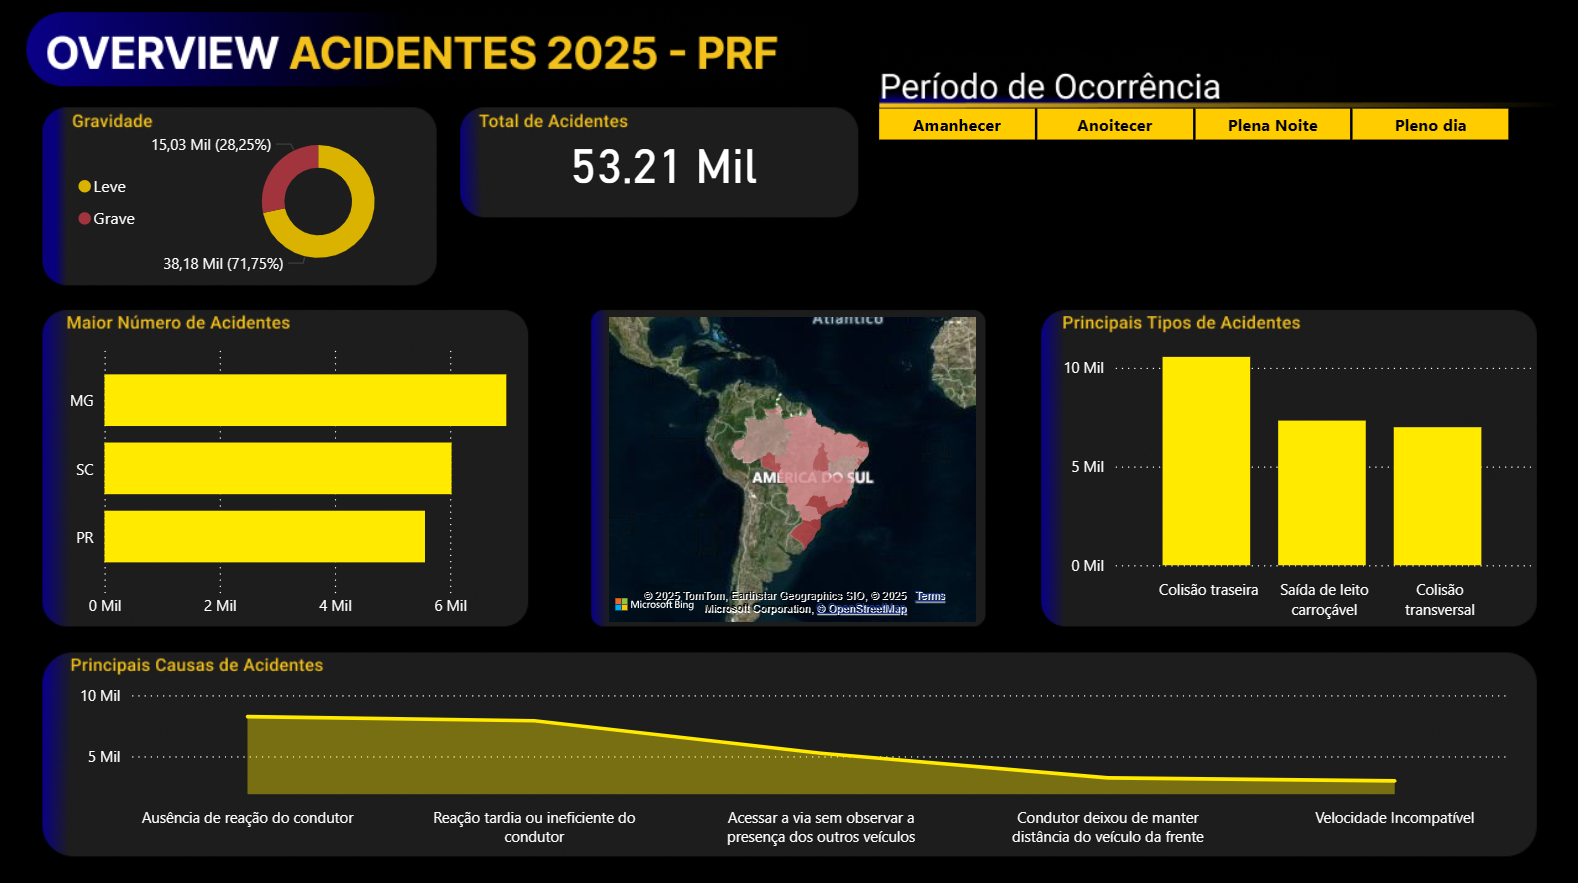

The dashboard page shown, as its layout file describes it:
{"tool":"powerbi","page":{"name":"Página 1","canvas":[1280,720],"ordinal":0},"visuals":[{"type":"filledMap","fields":{"Category":["prf_db acidentes.regiao_ajustada"]},"box":[492.5,217.5,320,272.5],"z":0},{"type":"clusteredBarChart","fields":{"Category":["prf_db acidentes.Estado"],"Y":["CountNonNull(prf_db acidentes.id)"]},"box":[58.8,240,370,250],"z":1000},{"type":"clusteredColumnChart","fields":{"Category":["prf_db acidentes.tipo_acidente"],"Y":["CountNonNull(prf_db acidentes.id)"]},"box":[872.5,217.5,366.2,272.5],"z":2000},{"type":"areaChart","fields":{"Category":["prf_db acidentes.causa_acidente"],"Y":["CountNonNull(prf_db acidentes.id)"]},"box":[58.8,538.8,1180,162.5],"z":3000},{"type":"pivotTable","fields":{"Rows":["prf_db acidentes.data_inversa.Variation.Hierarquia de datas.Dia"],"Columns":["prf_db acidentes.horario"],"Values":["CountNonNull(prf_db acidentes.id)"]},"box":[1259,280.2,12.5,116.8],"z":4000},{"type":"slicer","fields":{"Values":["prf_db acidentes.fase_dia"]},"box":[707.5,45,551.2,37.5],"z":5000},{"type":"clusteredBarChart","fields":{"Category":["prf_db acidentes.gravidade"],"Y":["CountNonNull(prf_db acidentes.veiculos)"]},"box":[86.2,73.8,553.8,126.2],"z":6000}]}

Visuals, with their boxes in screenshot pixels (x1, y1, x2, y2), scaled from the page's 1280x720 canvas onto the 1578x883 screenshot:
filledMap - prf_db acidentes.regiao_ajustada: Rect(607, 267, 1002, 601)
clusteredBarChart - prf_db acidentes.Estado x CountNonNull(prf_db acidentes.id): Rect(72, 294, 529, 601)
clusteredColumnChart - prf_db acidentes.tipo_acidente x CountNonNull(prf_db acidentes.id): Rect(1076, 267, 1527, 601)
areaChart - prf_db acidentes.causa_acidente x CountNonNull(prf_db acidentes.id): Rect(72, 661, 1527, 860)
pivotTable - prf_db acidentes.data_inversa.Variation.Hierarquia de datas.Dia x prf_db acidentes.horario: Rect(1552, 344, 1568, 487)
slicer - prf_db acidentes.fase_dia: Rect(872, 55, 1552, 101)
clusteredBarChart - prf_db acidentes.gravidade x CountNonNull(prf_db acidentes.veiculos): Rect(106, 91, 789, 245)
